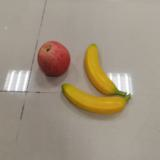apple: (37, 41, 70, 77)
